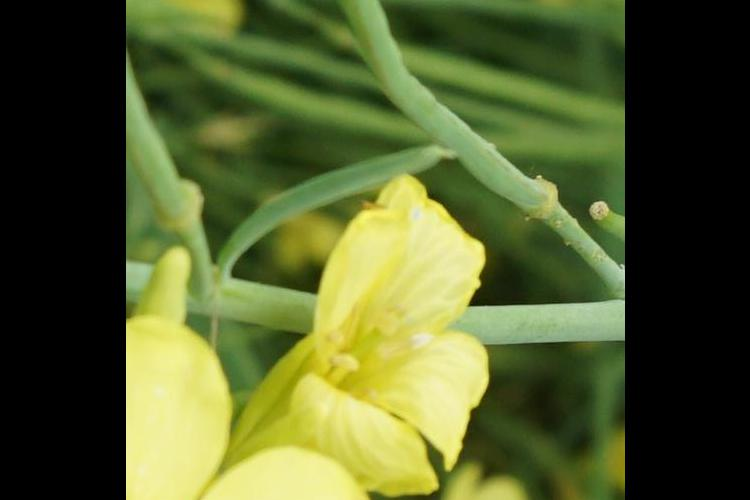pod: (311, 1, 524, 193)
yellow: (283, 198, 485, 478), (136, 339, 372, 500)
